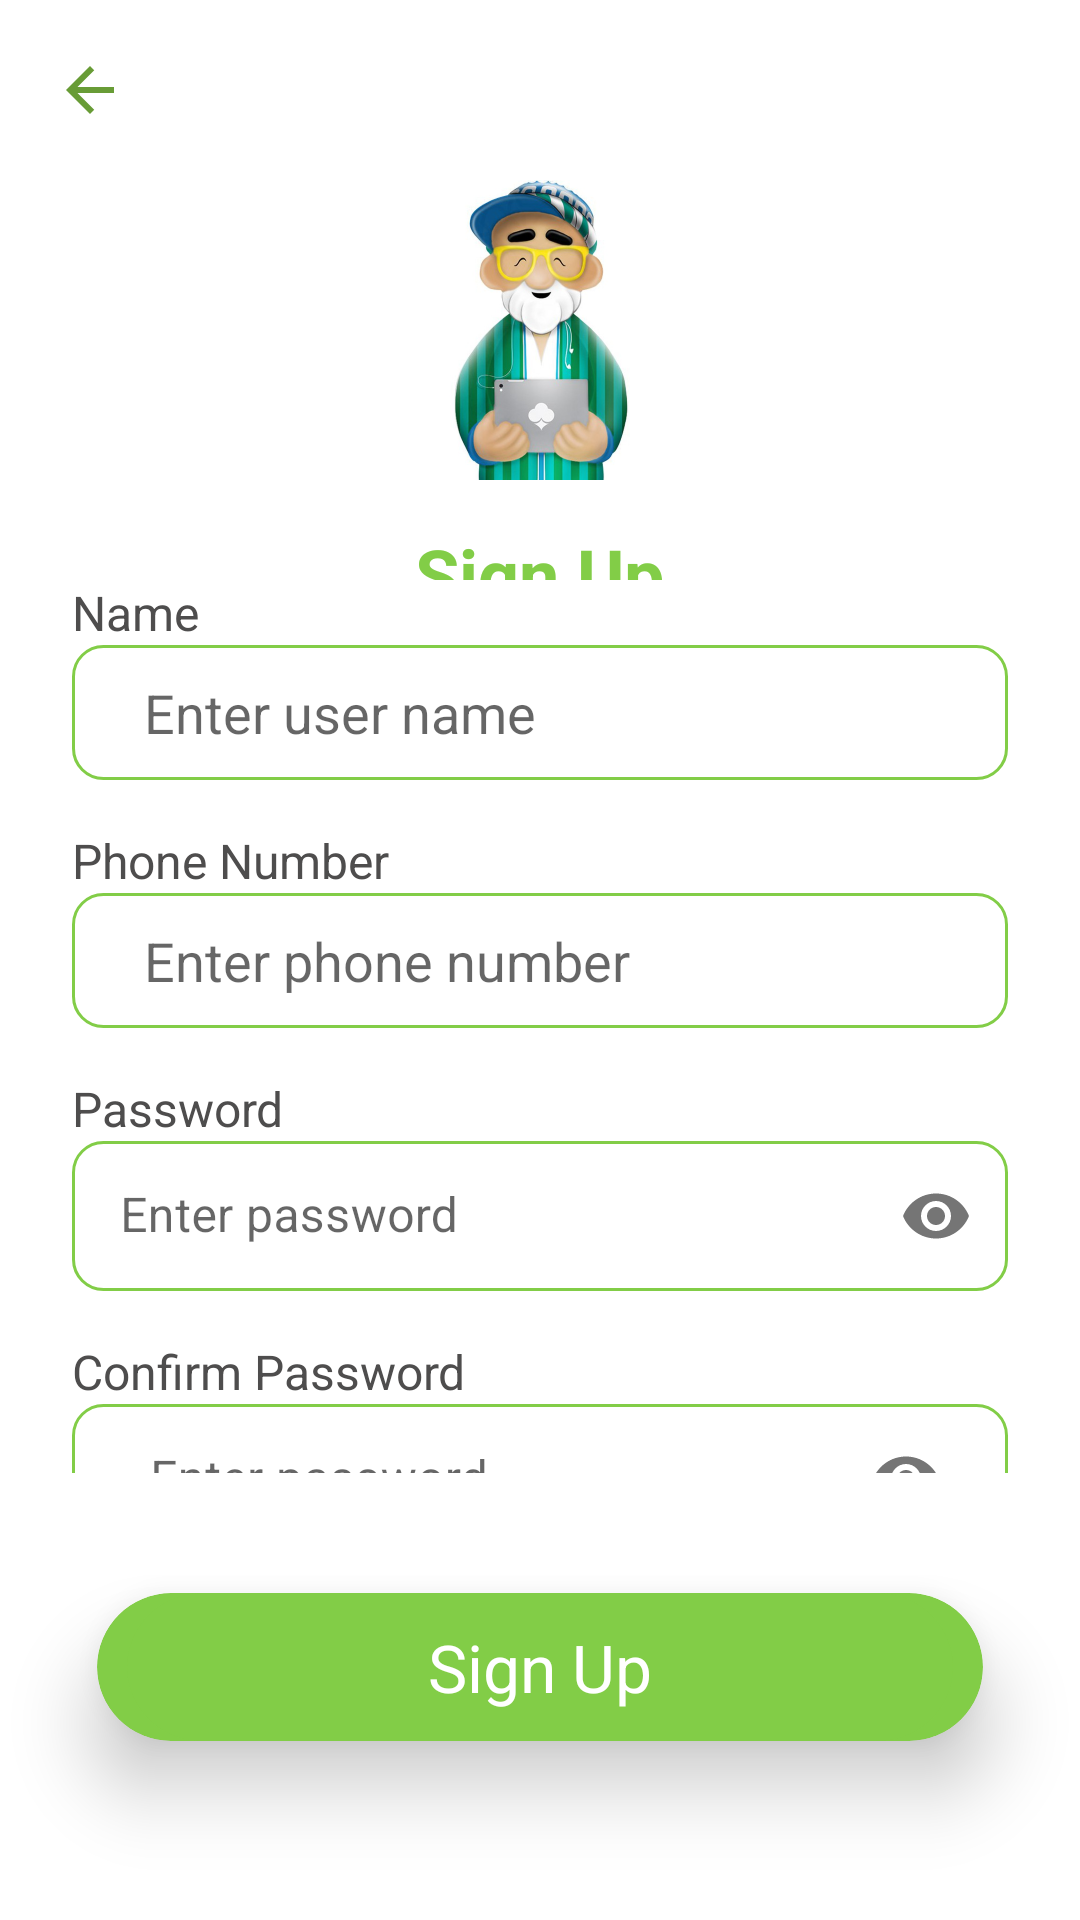

Named icons in this screenshot (1080 x 1920) and their centers, (x=x, y=y):
back: (x=90, y=90)
ustoz: (x=541, y=330)
